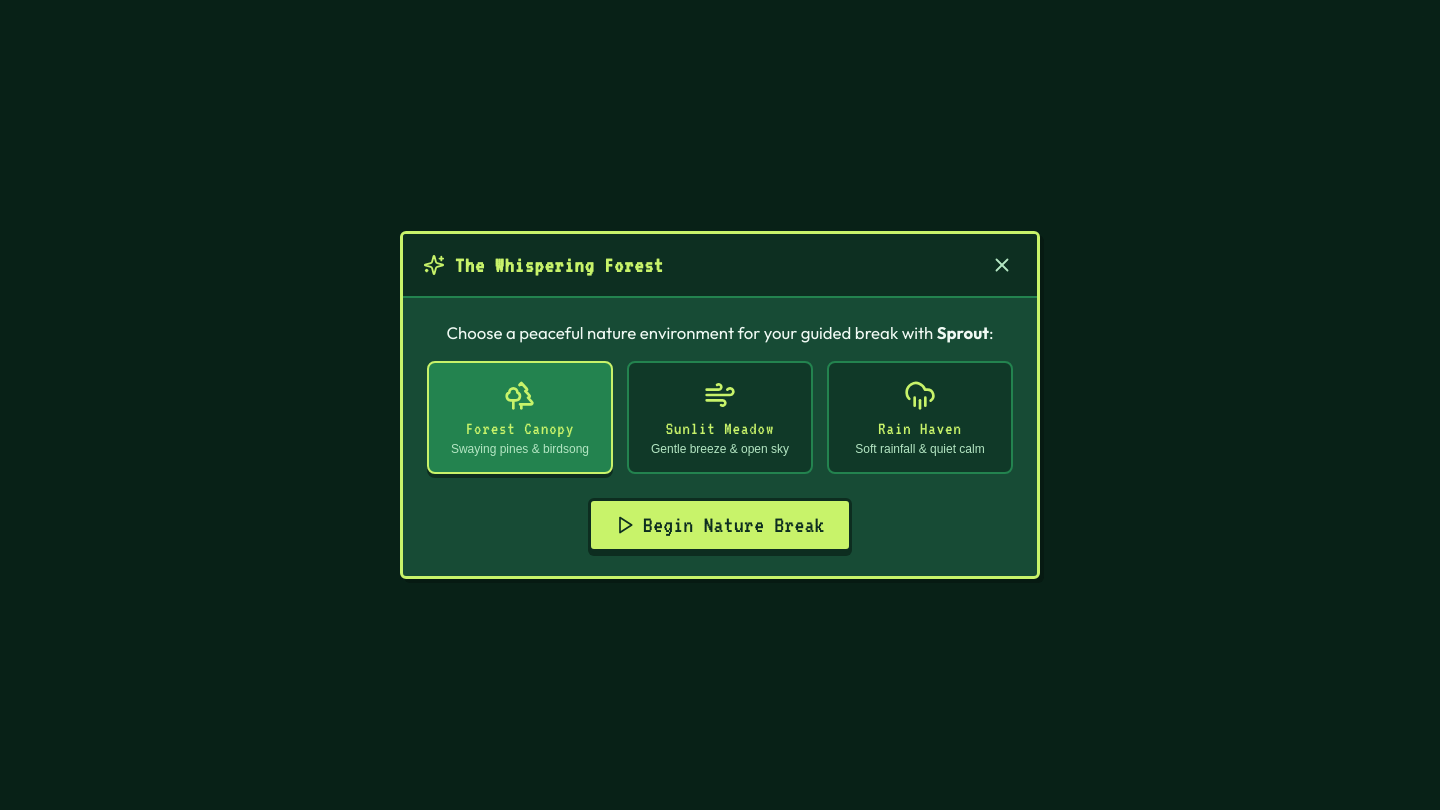
it: Milestone 3 — AI Friend Engine & Guided Nature Experience Tests › GuidedNatureSession State Machine › transitions through idle, playing, paused, and completed states
Expected: the heading "The Whispering Forest" is shown, [455, 254, 664, 276]
Begin session
Step 1. Click the button "Begin Nature Break" → (720, 525), box [588, 498, 852, 552]
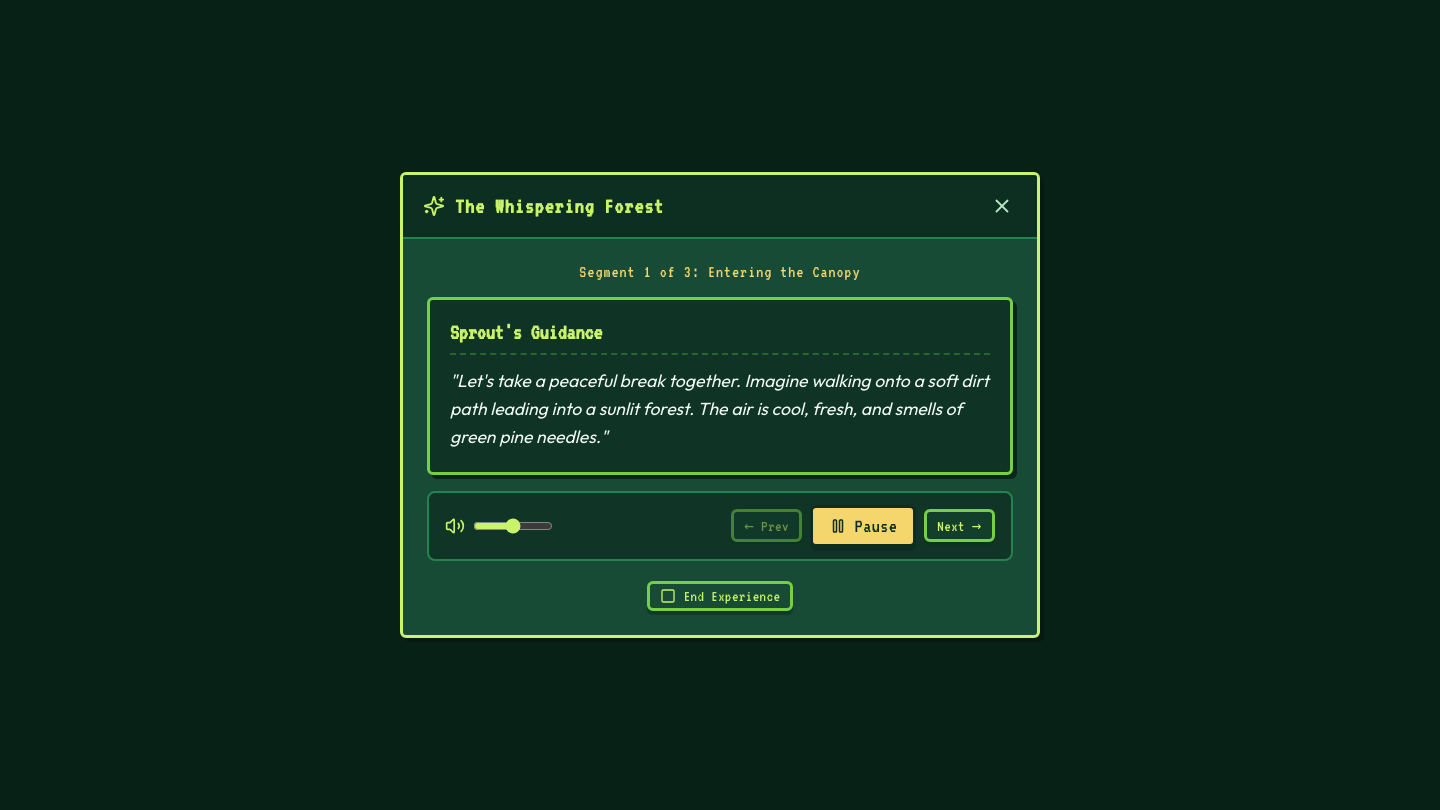
Expected: the text "Segment 1 of 3: Entering the Canopy" is shown, [579, 264, 861, 282]
Pause button
Step 2. Click the button "Pause" → (863, 526), box [810, 504, 916, 546]
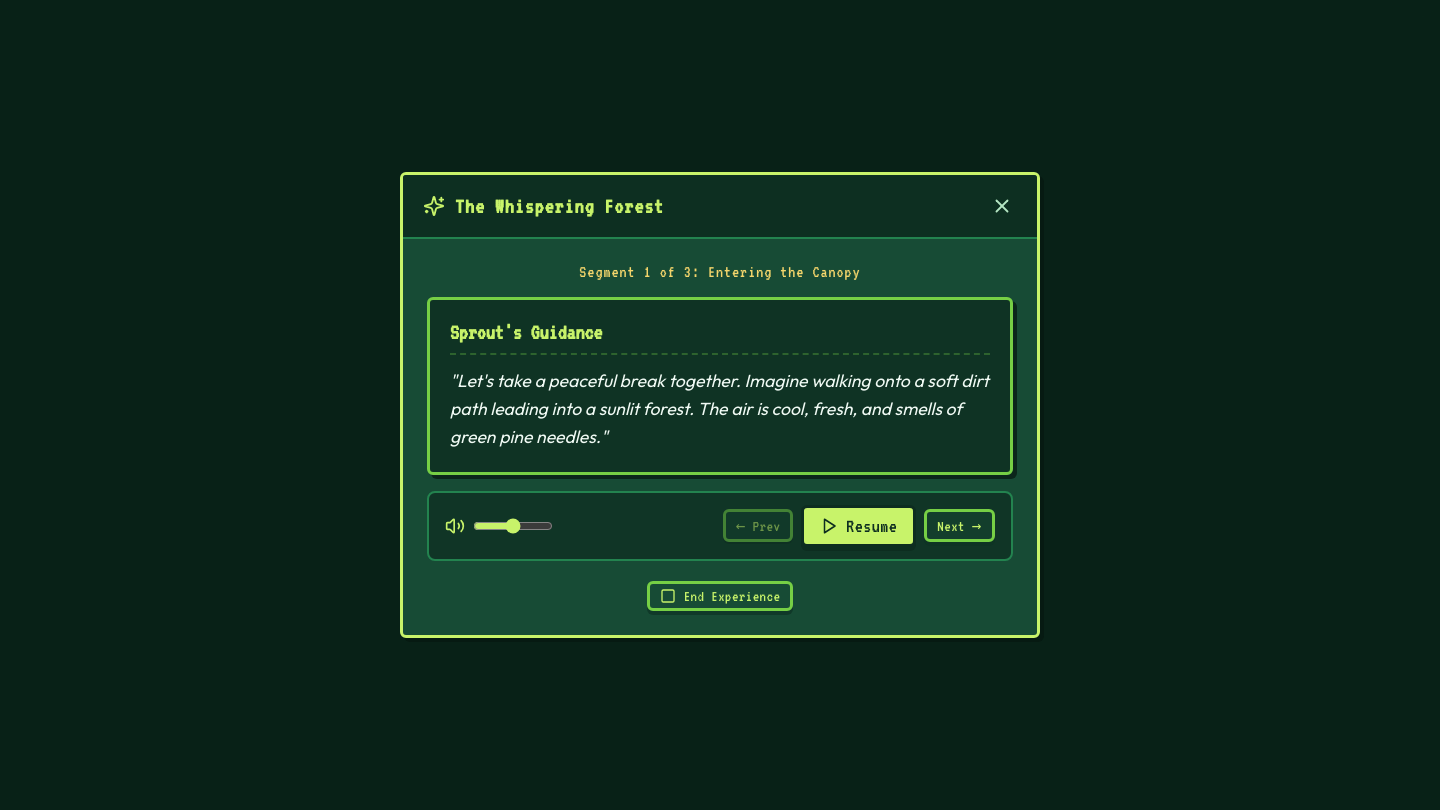
Expected: the button "Resume" is shown, [801, 504, 916, 546]
Next segment
Step 3. Click the button "Next →" → (960, 526), box [924, 509, 995, 542]
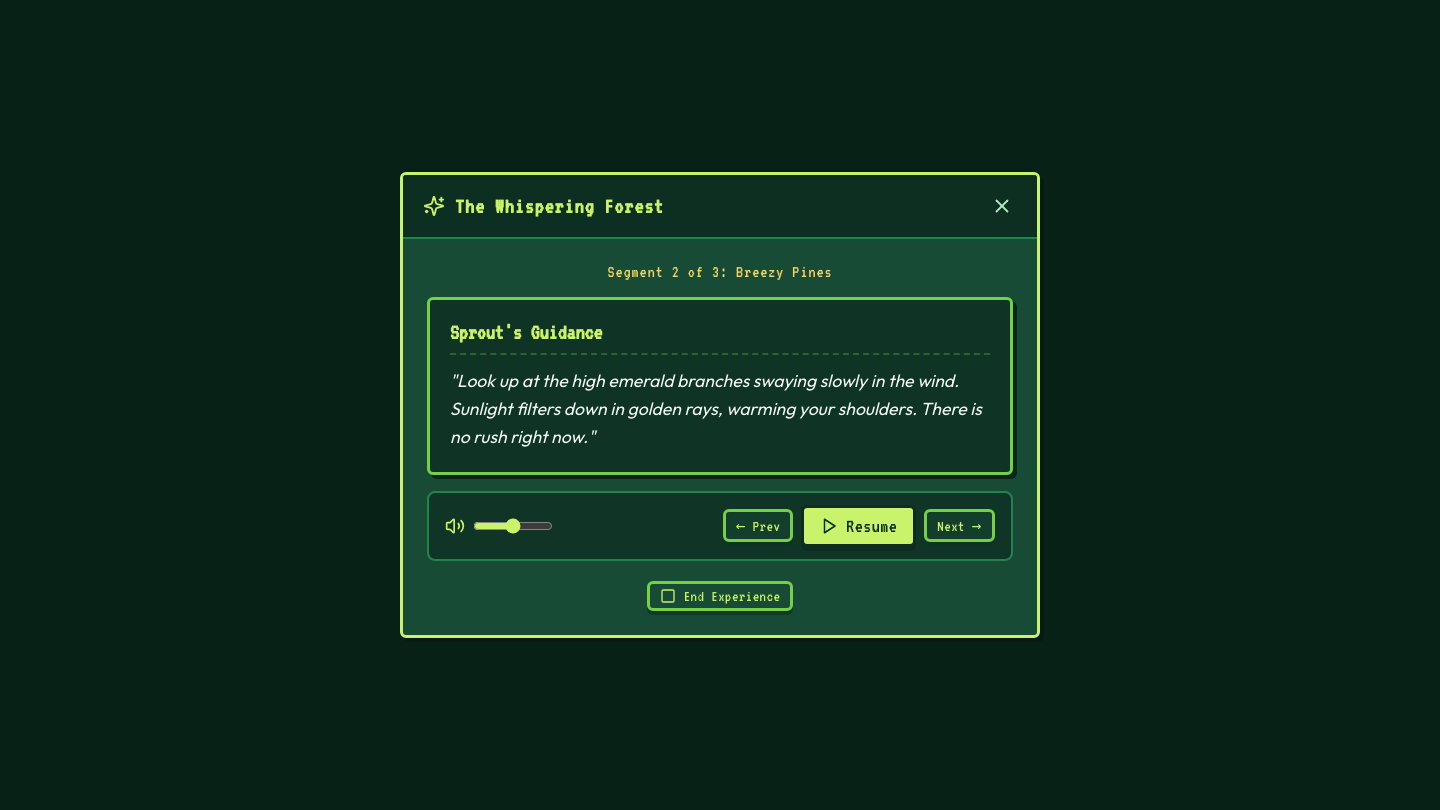
Expected: the text "Segment 2 of 3: Breezy Pines" is shown, [608, 264, 833, 282]
Complete session
Step 4. Click the button "Next →" → (960, 526), box [924, 509, 995, 542]
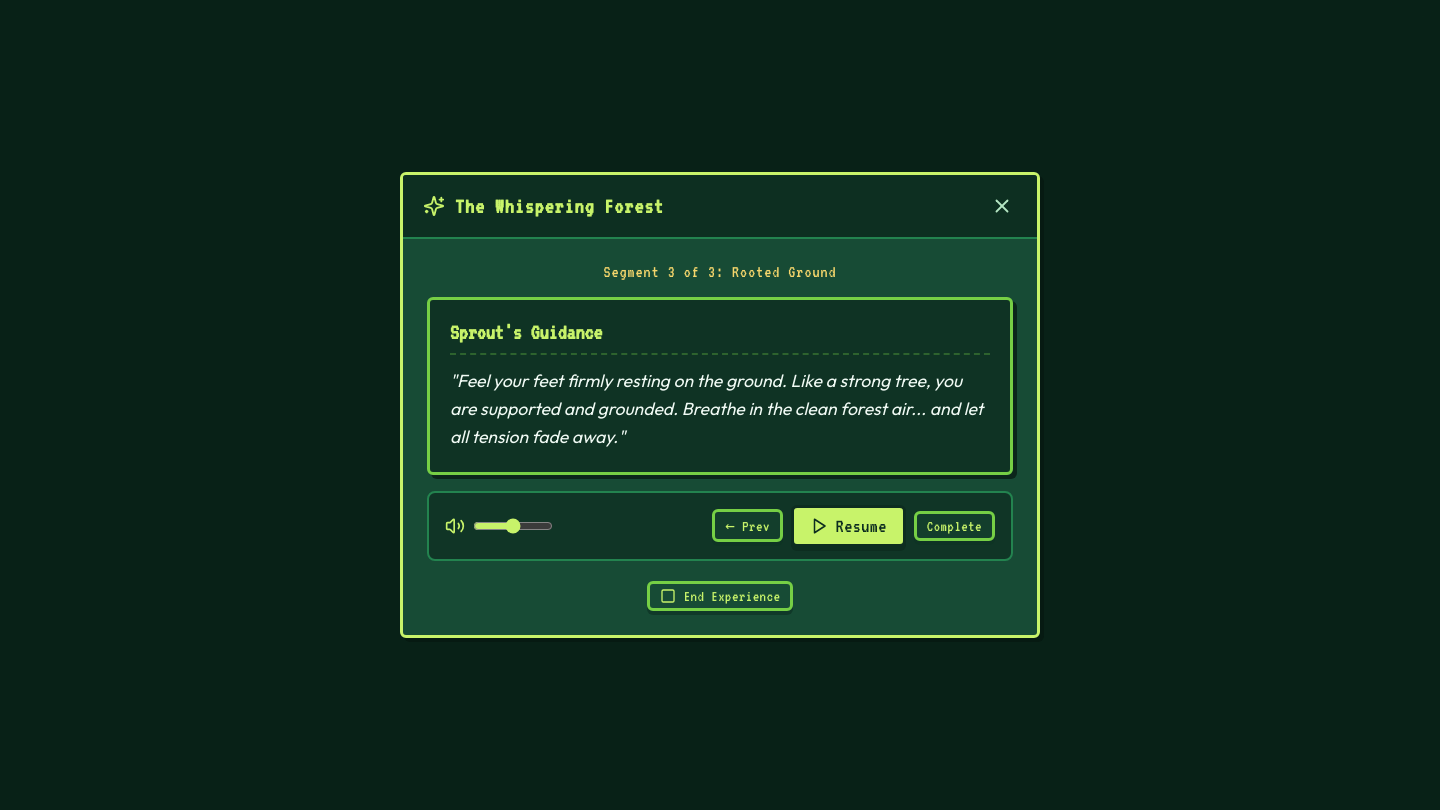
Step 5. Click the button "Complete" → (954, 526), box [914, 510, 995, 540]
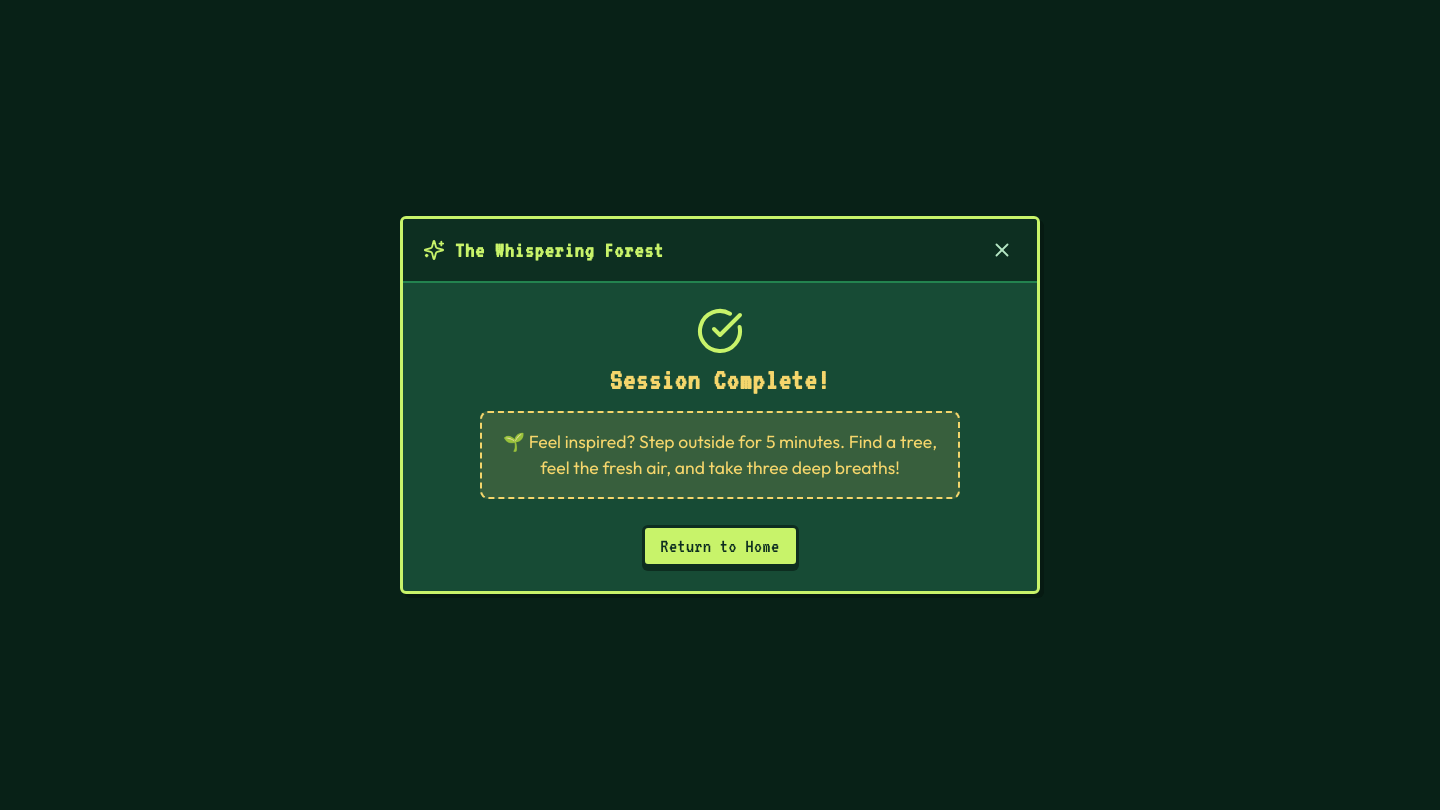
Expected: the heading "Session Complete!" is shown, [610, 365, 830, 395]
